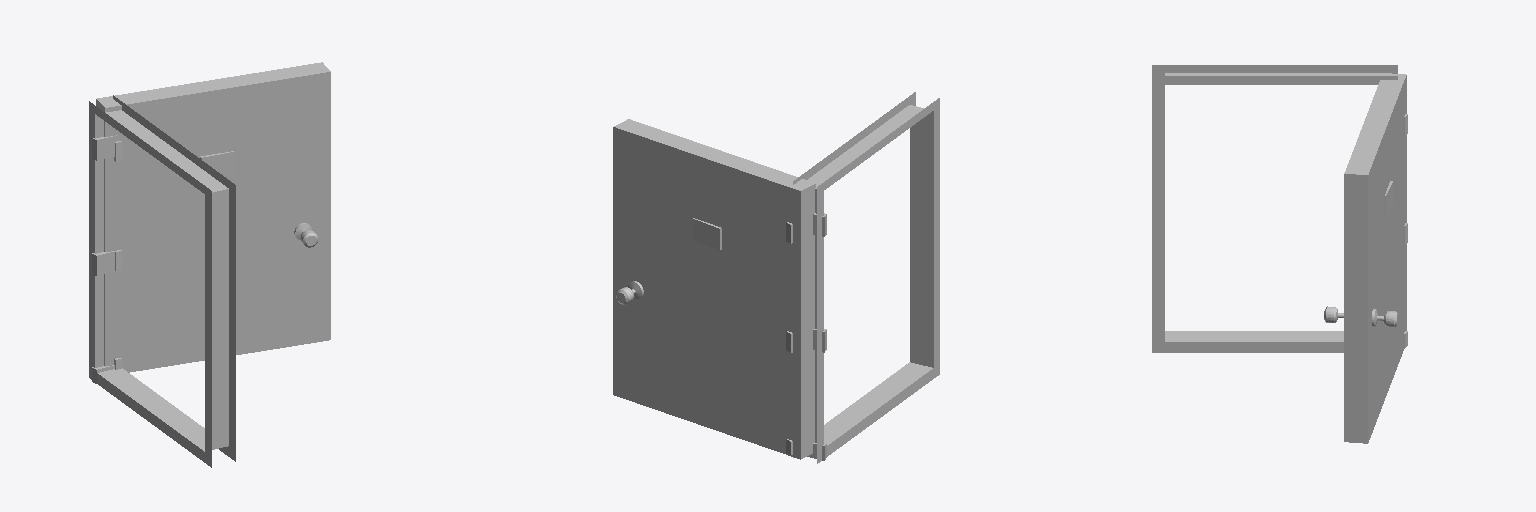
File: Door_3_Open25.obj
3 renders of one model, left to right at view 1: azimuth 30°, elevation 25°; view 2: azimuth 150°, elevation 25°; view 3: azimuth 270°, elevation 25°, orthographic.
Parts seen in each view (by area): view 1: Shortish_Door, Frame_Door.003; view 2: Shortish_Door, Frame_Door.003; view 3: Shortish_Door, Frame_Door.003.
Part boxes in pixels (left/top/right/bottom): Shortish_Door: left=96, top=62, right=330, bottom=372; Frame_Door.003: left=89, top=95, right=235, bottom=467; Shortish_Door: left=613, top=119, right=815, bottom=459; Frame_Door.003: left=793, top=92, right=939, bottom=463; Shortish_Door: left=1324, top=73, right=1407, bottom=443; Frame_Door.003: left=1152, top=65, right=1397, bottom=352.
Bounding box in the file's own units: 0.9937 × 1.19 × 0.9988.